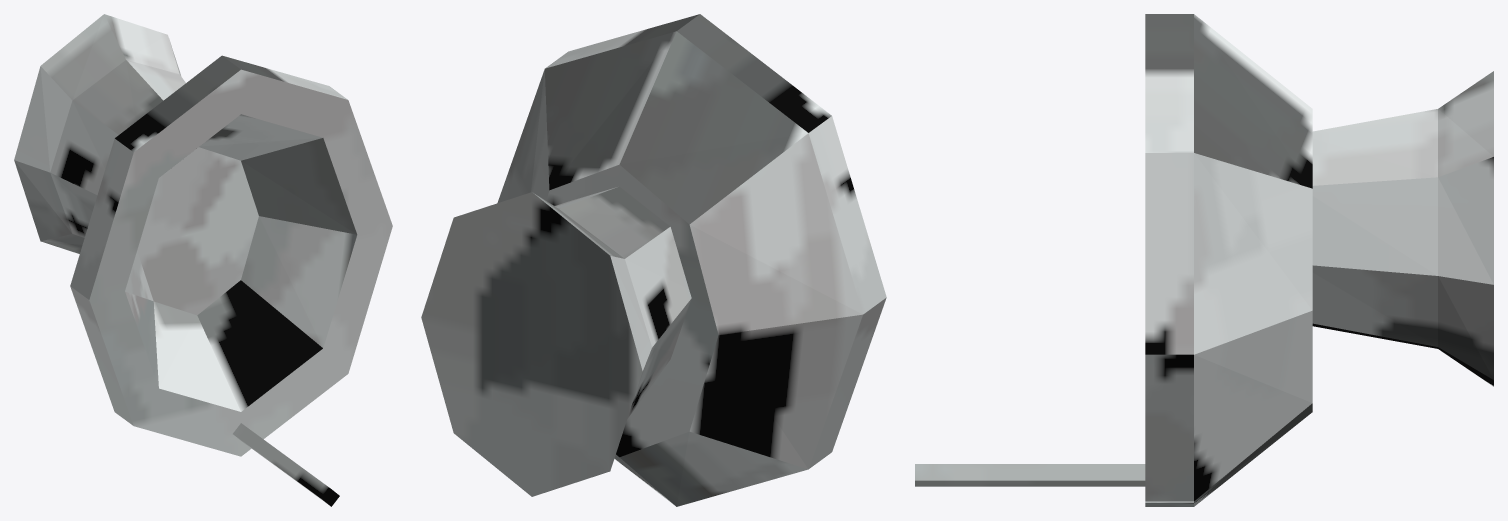
The model's file is pz_house_toilet_low.obj.
3 renders of one model, left to right at view 1: azimuth 30°, elevation 25°; view 2: azimuth 150°, elevation 25°; view 3: azimuth 270°, elevation 25°, orthographic. The views are drawn at different scales.
Parts seen in each view (by area): view 1: pz_house_toilet_low_|_2_parte_2, pz_house_toilet_low_|_1_parte_1, pz_house_toilet_low_|_3_parte_3; view 2: pz_house_toilet_low_|_2_parte_2, pz_house_toilet_low_|_1_parte_1; view 3: pz_house_toilet_low_|_2_parte_2, pz_house_toilet_low_|_1_parte_1, pz_house_toilet_low_|_3_parte_3.
Part boxes in pixels (bbox=[...]): pz_house_toilet_low_|_2_parte_2: bbox=[70, 55, 392, 456]; pz_house_toilet_low_|_1_parte_1: bbox=[14, 14, 185, 253]; pz_house_toilet_low_|_3_parte_3: bbox=[233, 423, 339, 506]; pz_house_toilet_low_|_2_parte_2: bbox=[497, 14, 886, 506]; pz_house_toilet_low_|_1_parte_1: bbox=[421, 186, 691, 496]; pz_house_toilet_low_|_2_parte_2: bbox=[1145, 14, 1312, 506]; pz_house_toilet_low_|_1_parte_1: bbox=[1312, 71, 1493, 386]; pz_house_toilet_low_|_3_parte_3: bbox=[915, 464, 1145, 486].
Bounding box in the file's own units: 0.64 × 0.78 × 0.83.
